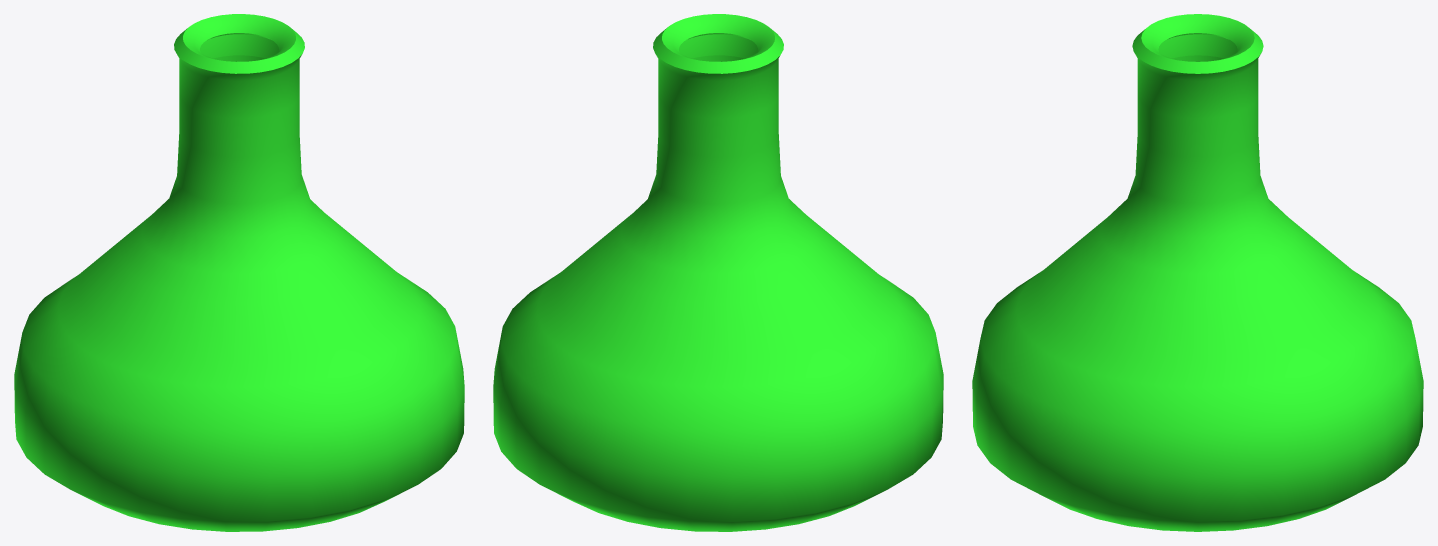
Rendered from static.glb.
3 views of the same model, side by side, from view 1: azimuth 30°, elevation 25°; view 2: azimuth 150°, elevation 25°; view 3: azimuth 270°, elevation 25° (orthographic).
Visible parts, largest first — view 1: Lathe_3; view 2: Lathe_3; view 3: Lathe_3.
Part boxes in pixels (x1,y1,x2,y2): Lathe_3: (14, 14, 464, 531); Lathe_3: (493, 14, 943, 531); Lathe_3: (972, 14, 1423, 531).
Size of the model in its own units: 0.6938 by 0.7088 by 0.6938.
2 materials, 2 textured.
